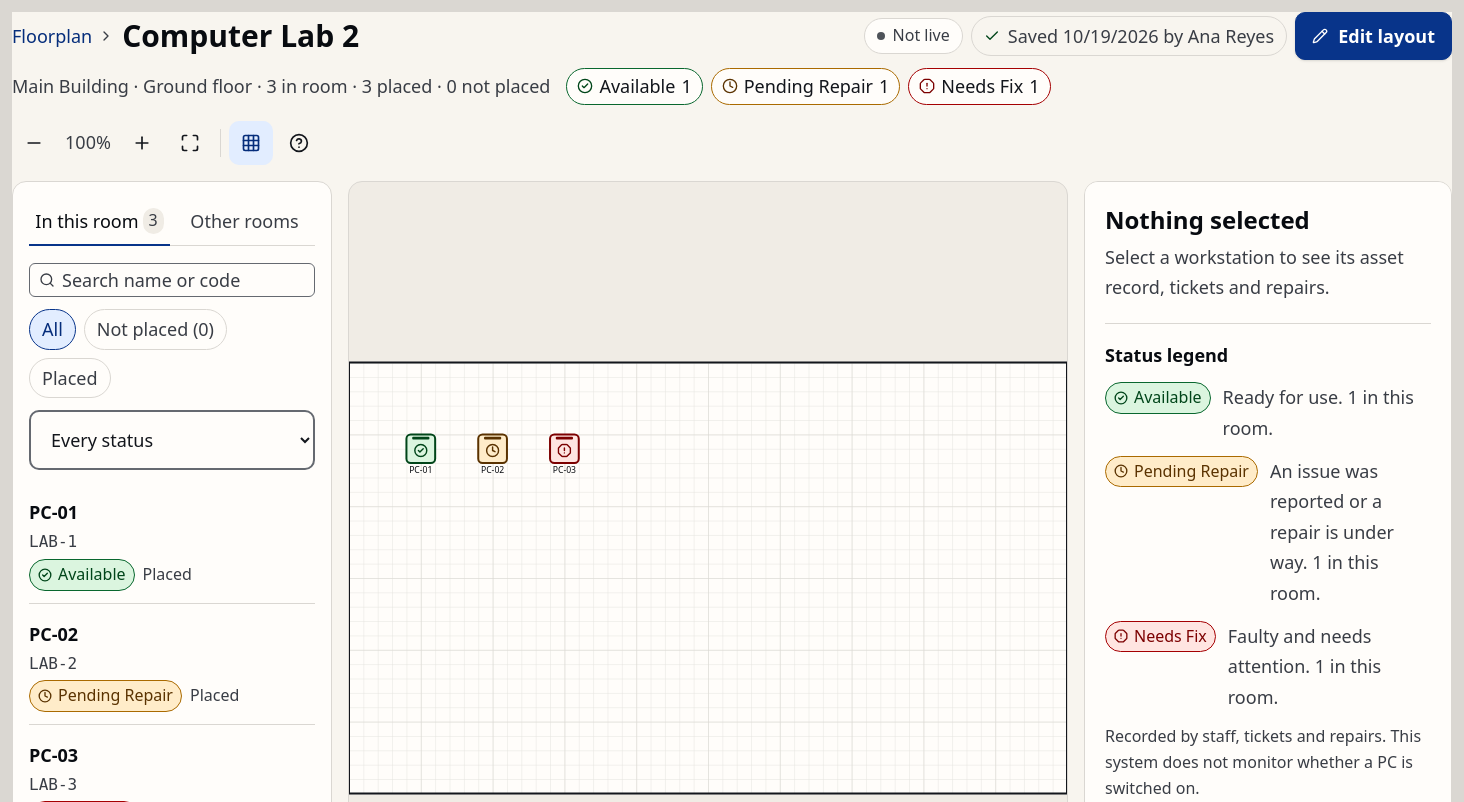
editing and saving › puts a refused size or position back in the field, so it never shows a value the plan lacks
Expected: the heading "Computer Lab 2" is shown, 122,15 -> 359,57
Click the button "Edit layout".
click(1374, 36)  # box 1295,12 -> 1452,60
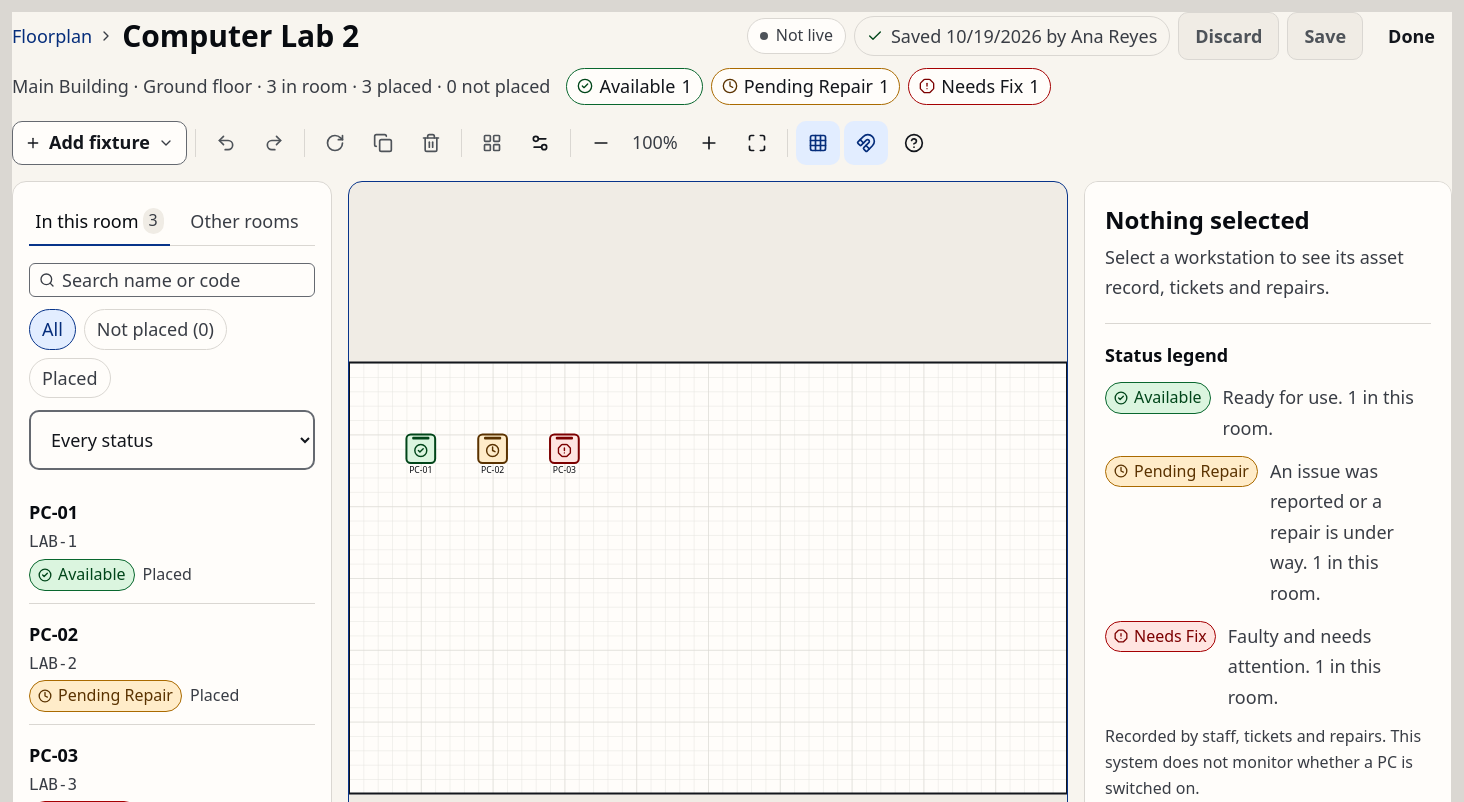
Click the button "Add fixture".
click(99, 143)  # box 12,121 -> 187,165
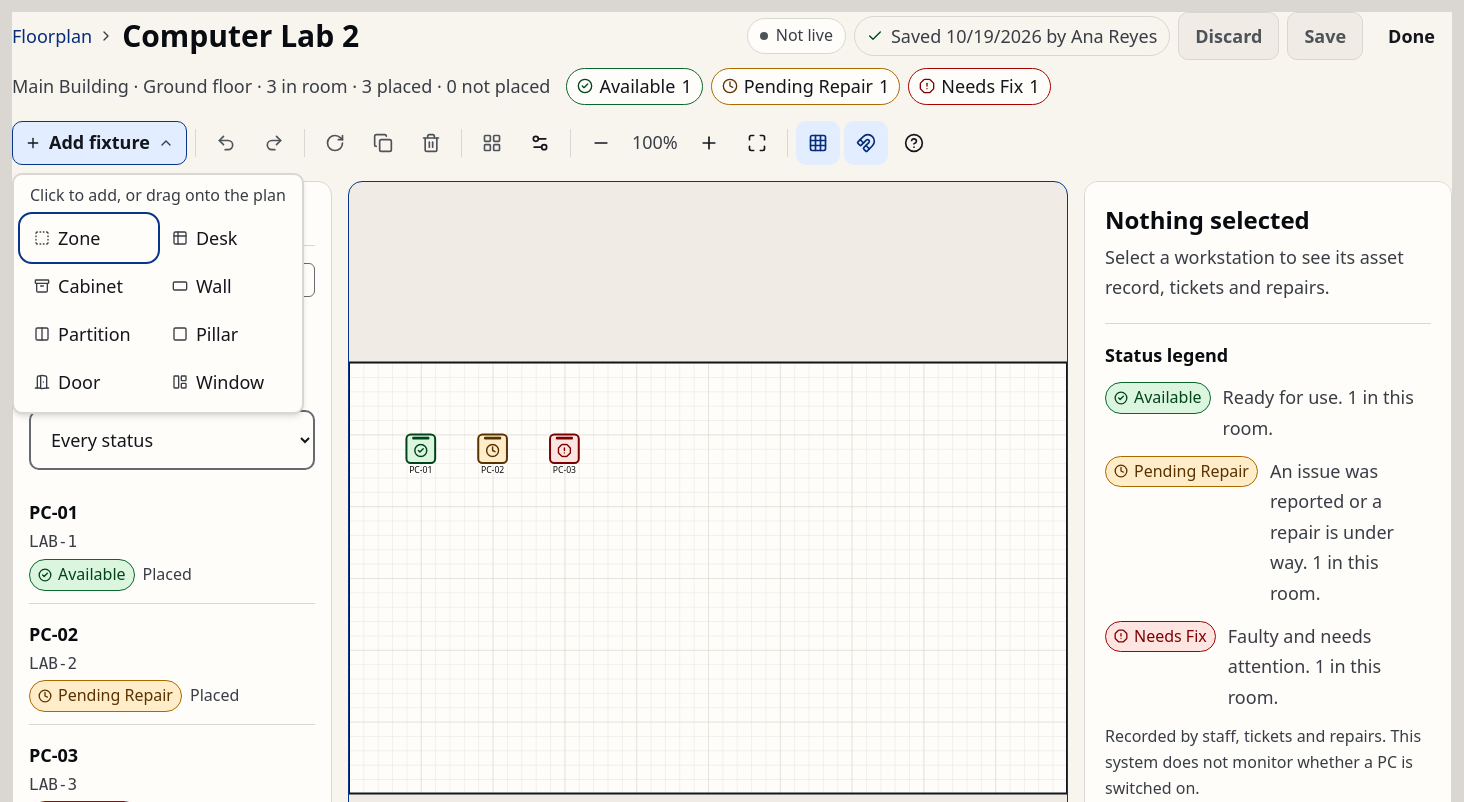
Click the button "Desk".
click(227, 238)  # box 160,216 -> 294,260
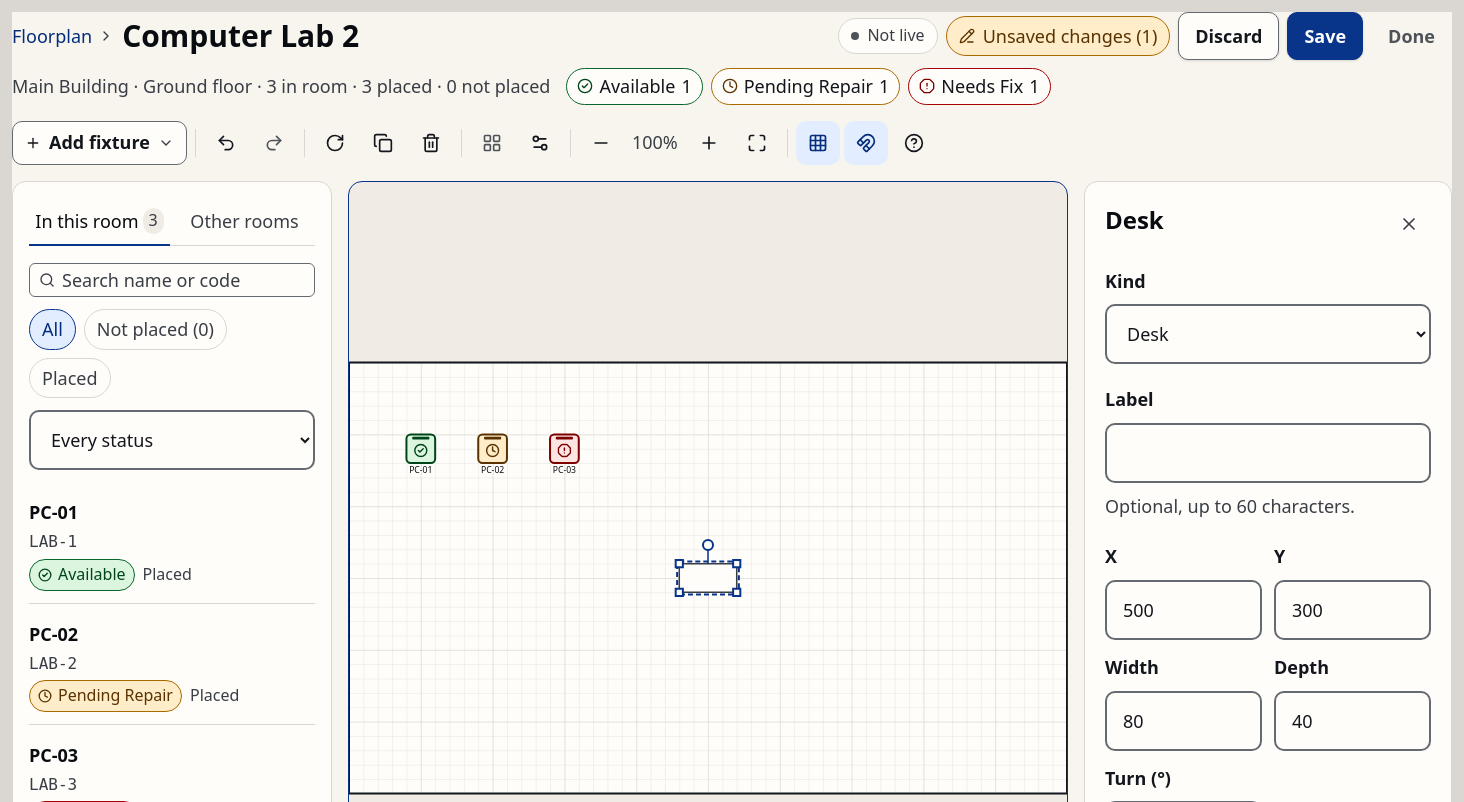
Replace the text in the number field labelled "X" with "990" at (1184,610), box 1105,580 -> 1262,640
Then press Enter
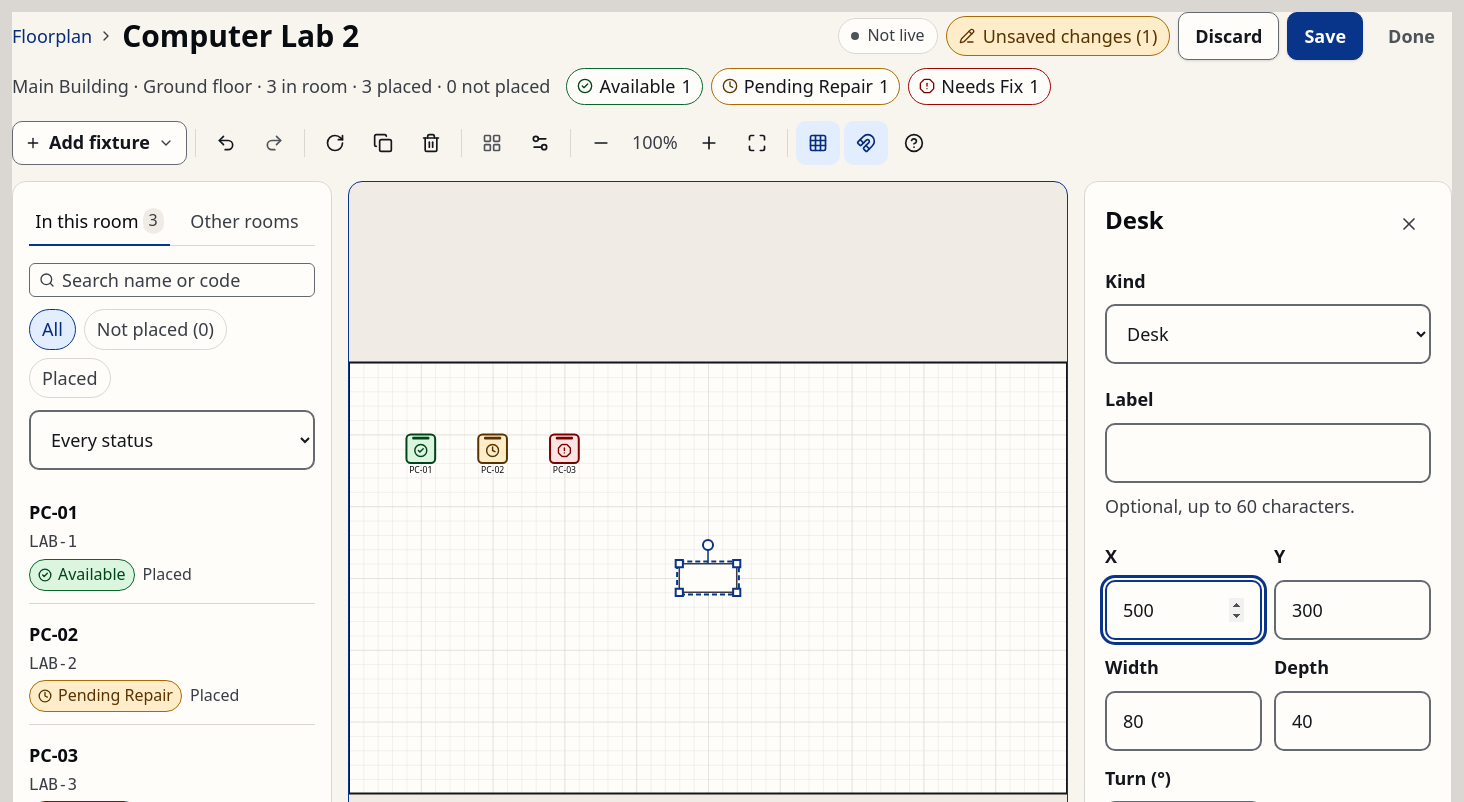
Expected: the number field labelled "X" holds "500", 1105,580 -> 1262,640
